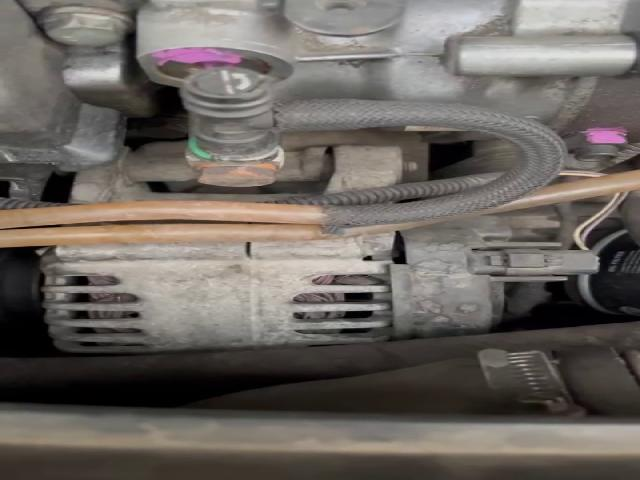alternator: (41, 214, 609, 354)
high_pressure_pump: (135, 0, 640, 161)
